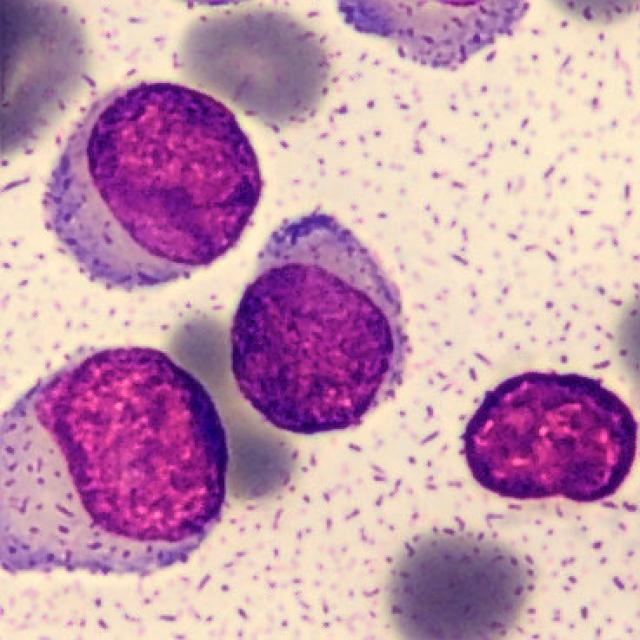Mieloblasto: (0, 348, 230, 576), (42, 83, 264, 284), (231, 225, 407, 436)
